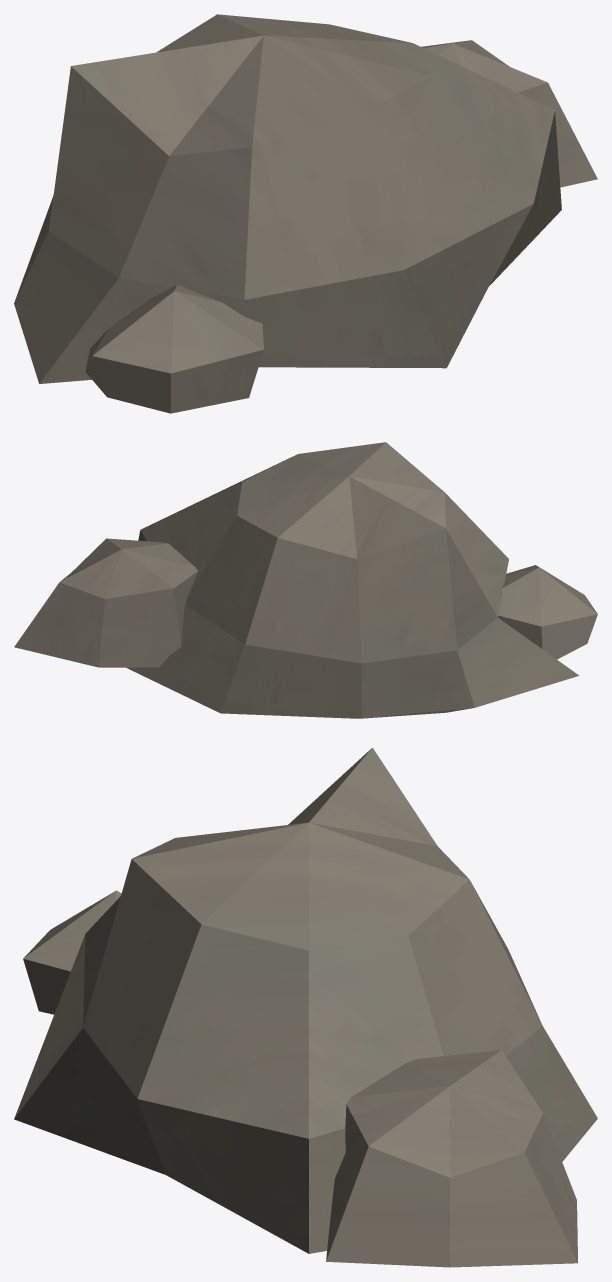
The model's file is rock_small_01.glb.
3 views of the same model, one above another, from view 1: azimuth 30°, elevation 25°; view 2: azimuth 150°, elevation 25°; view 3: azimuth 270°, elevation 25° (orthographic). The views are drawn at different scales.
Visible parts, largest first — view 1: rock_small_01; view 2: rock_small_01; view 3: rock_small_01.
Part boxes in pixels (<box>): rock_small_01: <box>14,14,597,413</box>; rock_small_01: <box>14,442,597,718</box>; rock_small_01: <box>14,748,597,1267</box>.
Size of the model in its own units: 1.24 by 0.5106 by 0.9101.
Materials: 3 (3 with a texture image).
